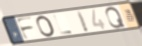4: (92, 8, 108, 31)
F: (16, 16, 37, 41)
I: (75, 10, 91, 34)
L: (52, 14, 74, 36)
O: (36, 15, 57, 38)
Q: (105, 6, 127, 30)
